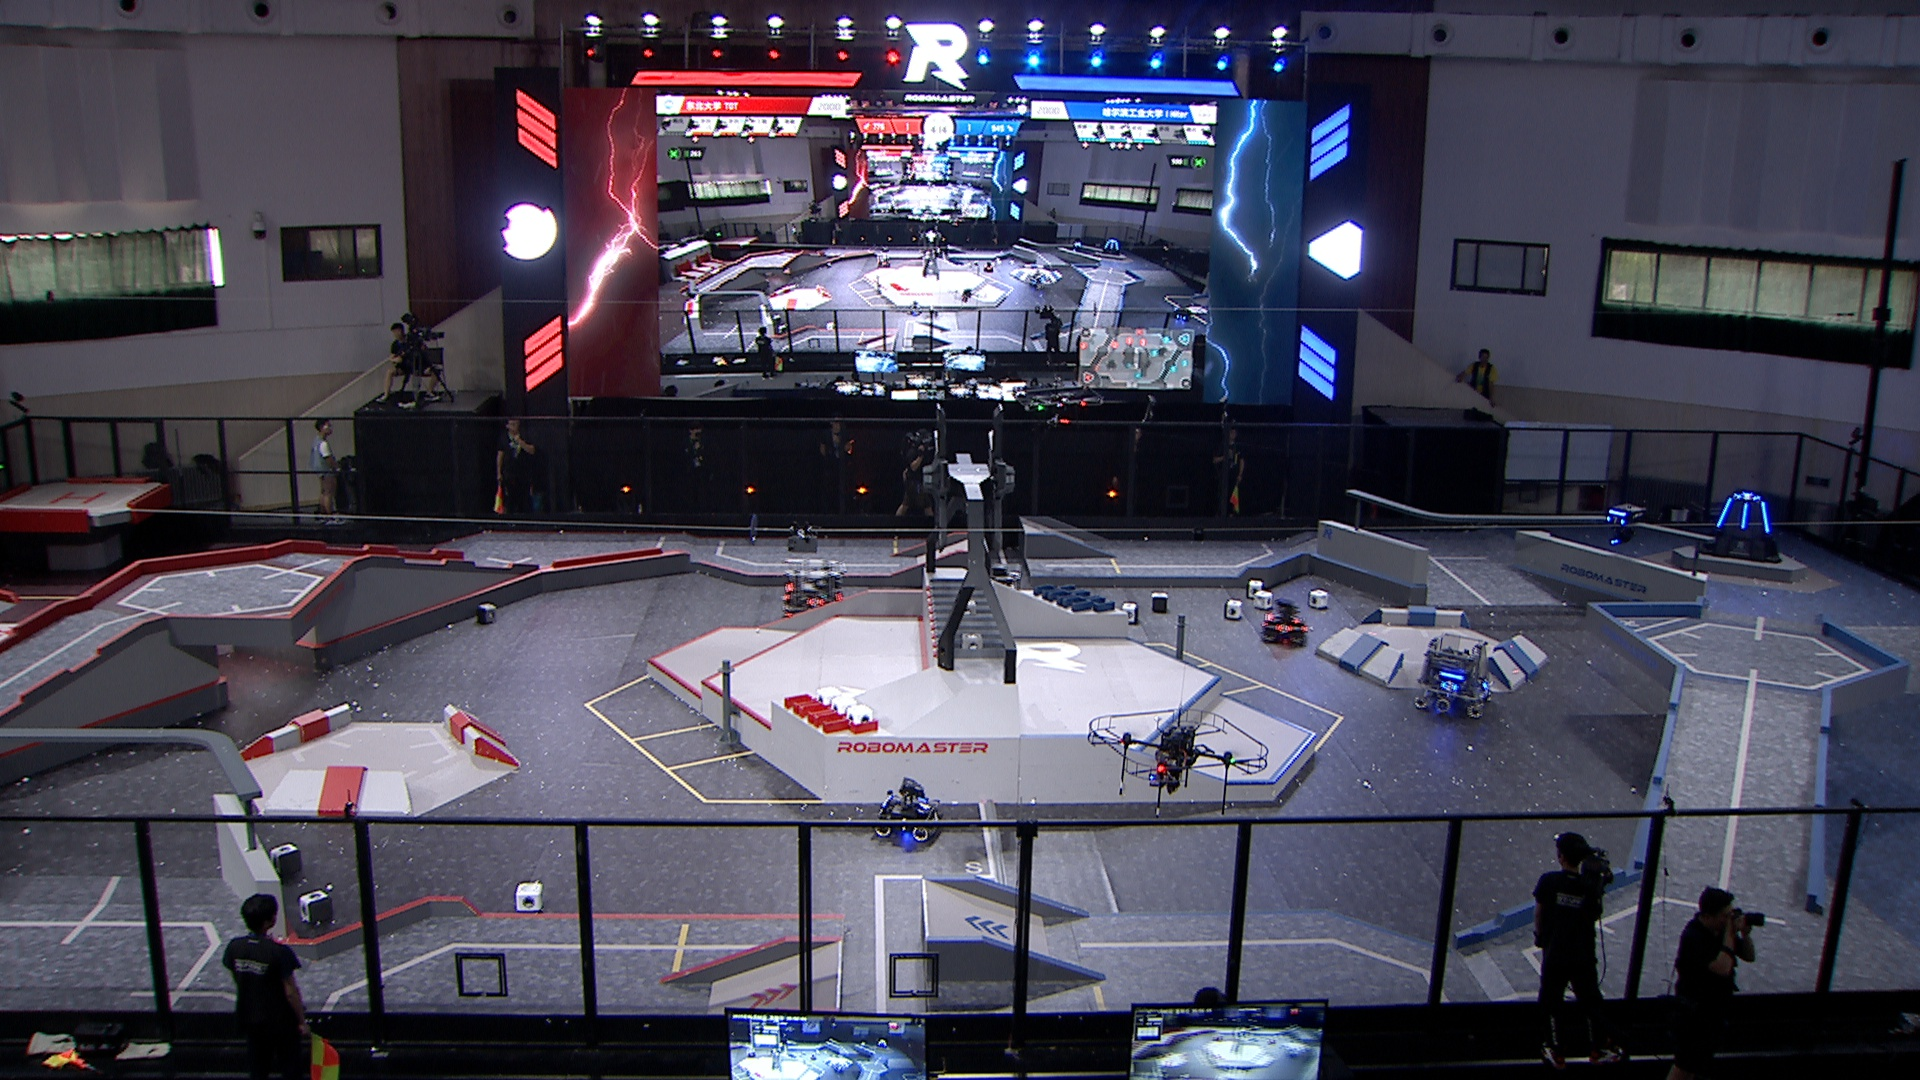armor: (1716, 496, 1735, 527), (1760, 498, 1774, 534), (1437, 680, 1460, 694), (1741, 501, 1750, 531), (1604, 516, 1626, 527), (1273, 624, 1295, 636), (916, 802, 934, 816), (1735, 493, 1760, 501), (807, 597, 827, 607), (930, 808, 942, 822)
base: (1695, 491, 1785, 564)
car: (1414, 632, 1499, 717), (873, 774, 948, 845), (779, 555, 847, 629), (1258, 597, 1311, 647)
watcher: (1596, 498, 1646, 546)
